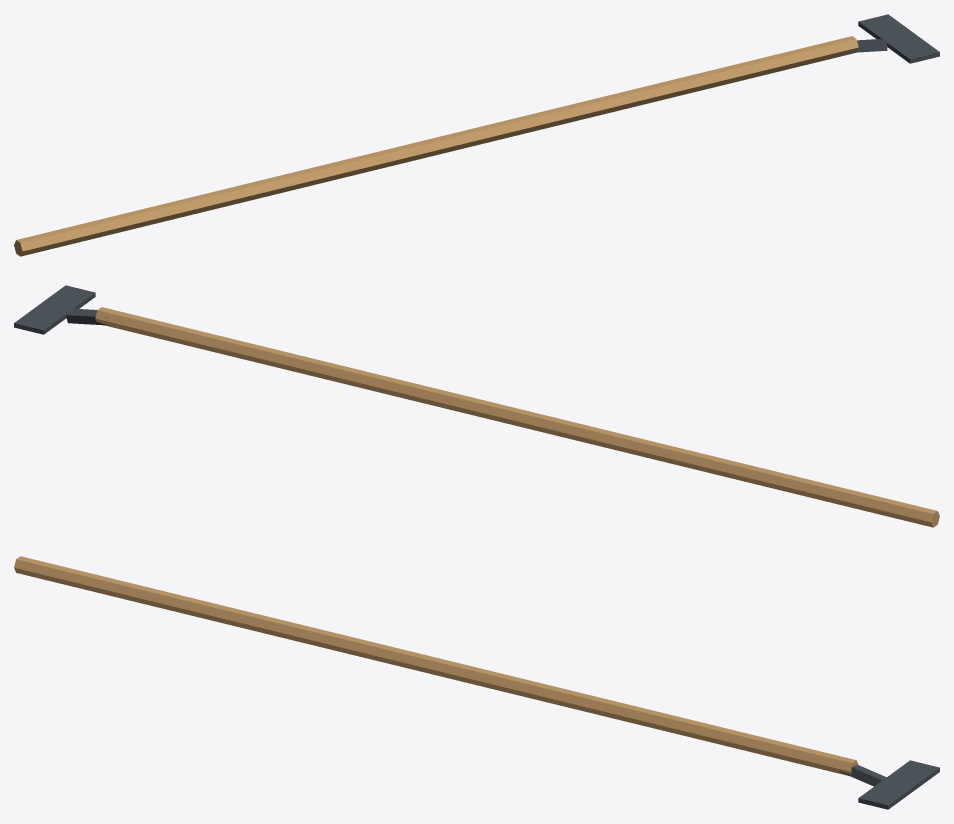
File: GT_Hoe_01.glb
3 renders of one model, top to bottom at view 1: azimuth 30°, elevation 25°; view 2: azimuth 150°, elevation 25°; view 3: azimuth 330°, elevation 25°, orthographic.
Visible parts, largest first — view 1: GT_Hoe_01; view 2: GT_Hoe_01; view 3: GT_Hoe_01.
Boxes of the visible parts, bbox=[...] form: GT_Hoe_01: bbox=[14, 14, 939, 256]; GT_Hoe_01: bbox=[14, 285, 939, 527]; GT_Hoe_01: bbox=[14, 556, 939, 809].
Bounding box in the file's own units: 1.5 × 0.0317 × 0.15.
Materials: 1 (1 with a texture image).
